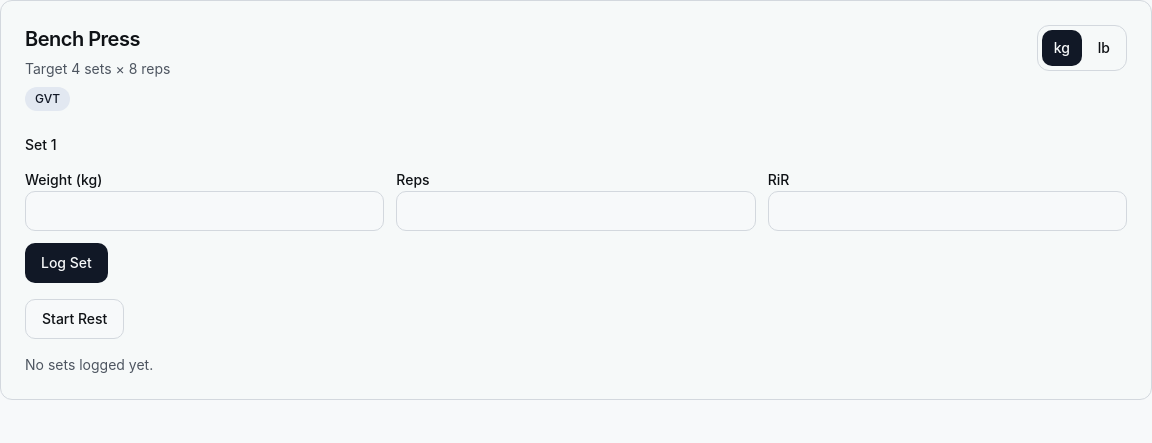
Test: ExerciseSection rest timer defaultSeconds wiring › passes GVT rest duration (60s) to RestTimer when exercise technique is GVT
Click the button "Start Rest": (75, 319) [25,299,124,339]
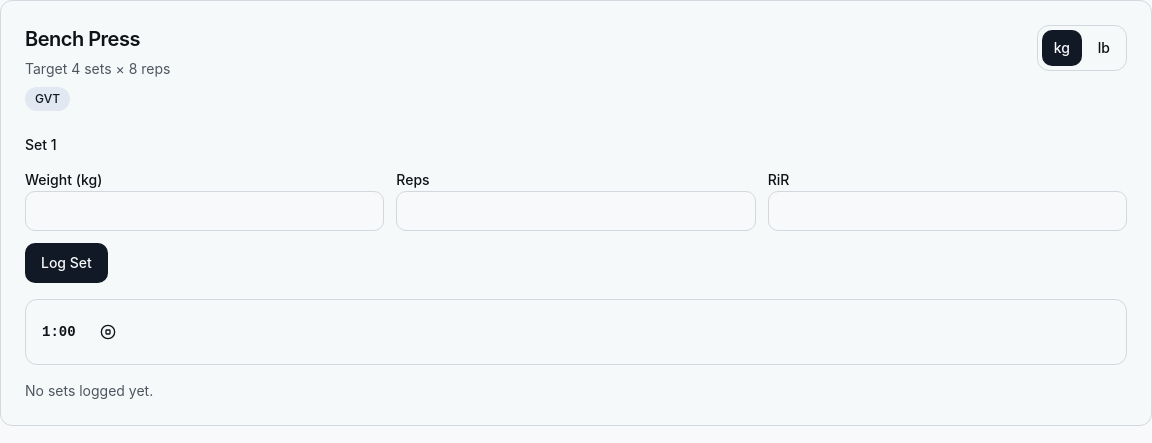
Check: the text "1:00" is shown, box [42,322,76,342]
